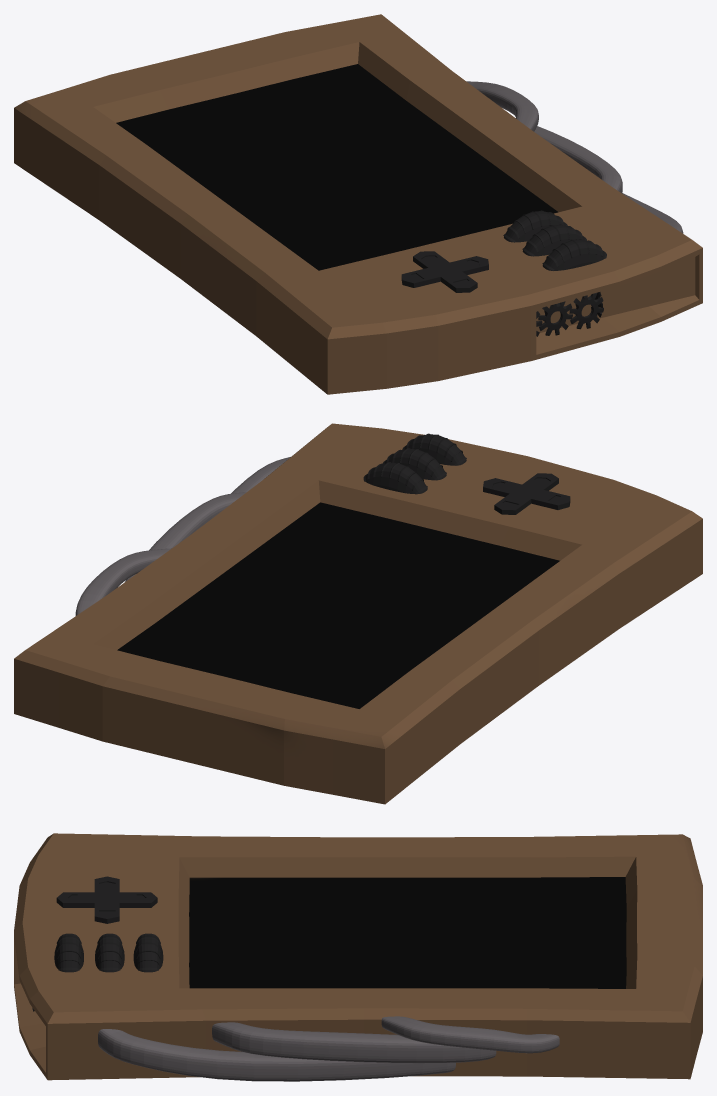
The model's file is PDA_PLACEHOLDER_0.02.fbx.
The picture shows the model from 3 angles, top to bottom: view 1: azimuth 30°, elevation 25°; view 2: azimuth 150°, elevation 25°; view 3: azimuth 270°, elevation 25°; orthographic projection.
Parts seen in each view (by area): view 1: PDA Placeholder; view 2: PDA Placeholder; view 3: PDA Placeholder.
Part boxes in pixels (<box>): PDA Placeholder: <box>14,14,702,394</box>; PDA Placeholder: <box>14,423,702,804</box>; PDA Placeholder: <box>14,833,702,1081</box>.
Bounding box in the file's own units: 224 × 44.21 × 327.
1 material, 1 textured.
